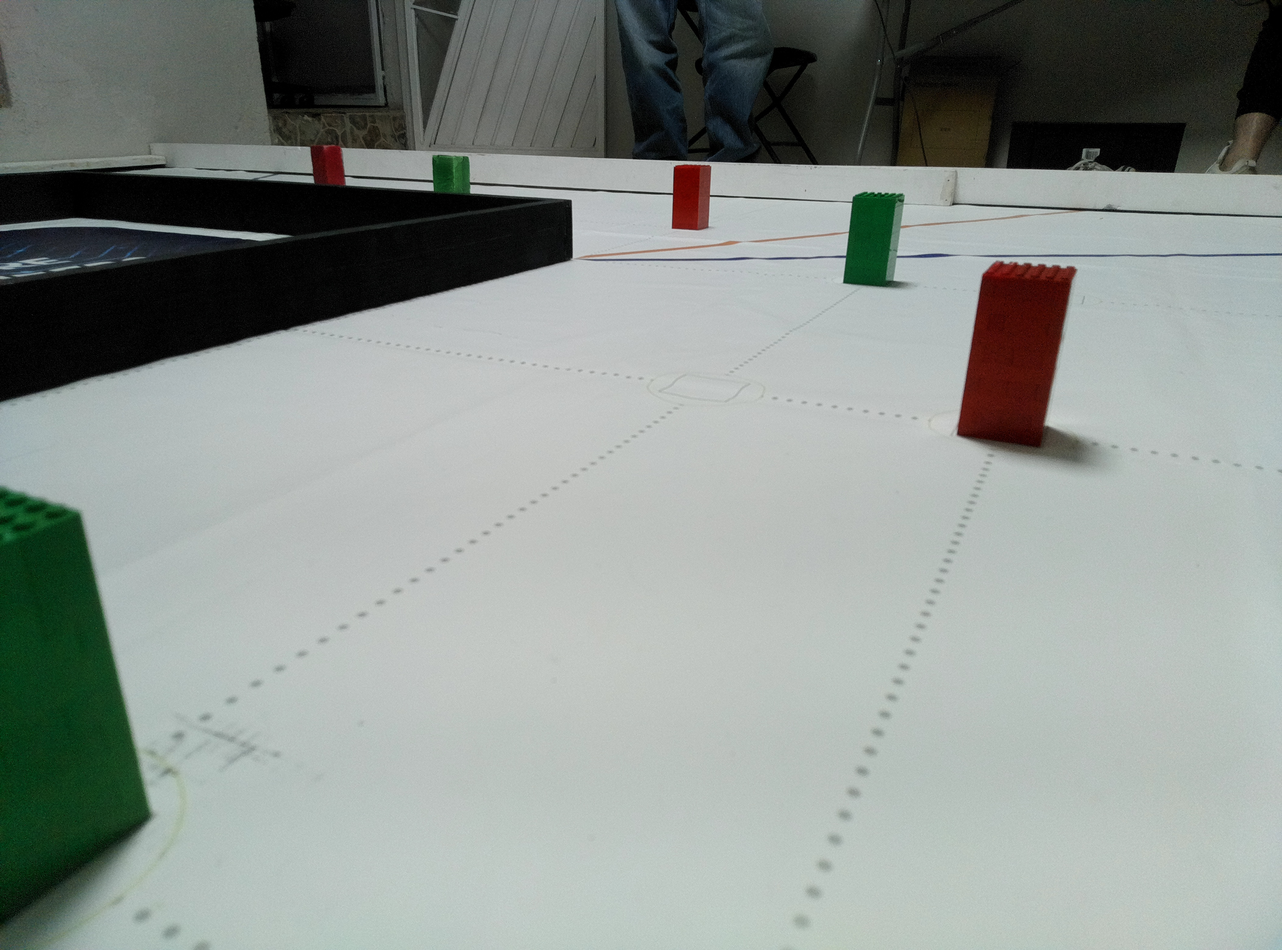greenbox: (0, 484, 161, 927), (431, 151, 470, 197)
redbox: (956, 260, 1079, 450), (842, 190, 905, 287), (672, 163, 712, 231), (305, 143, 346, 184)
